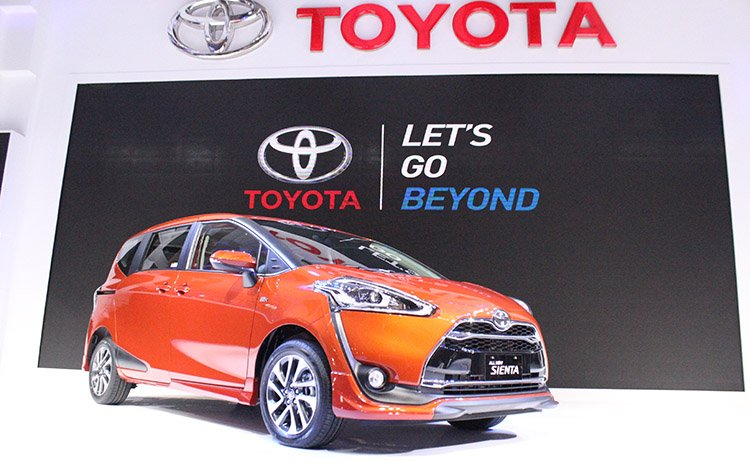mobil: (71, 213, 563, 453)
